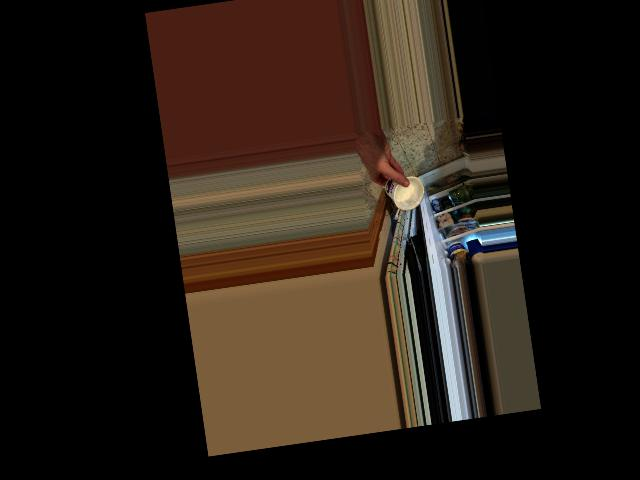cotage: (381, 169, 427, 216)
